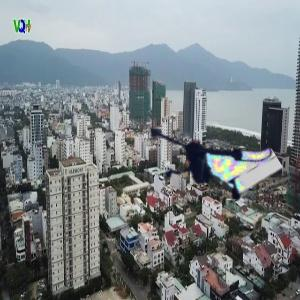drone: (133, 90, 266, 223)
